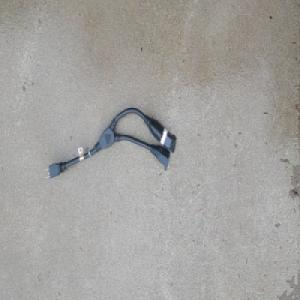Wire: (44, 105, 177, 180)
